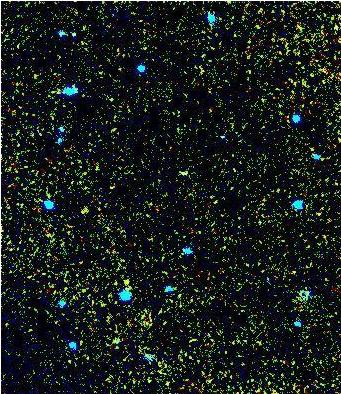star: (110, 265, 140, 295)
